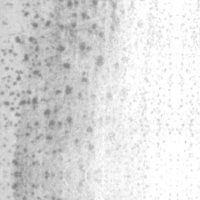pitted_surface: (0, 0, 114, 171), (139, 0, 174, 145)
